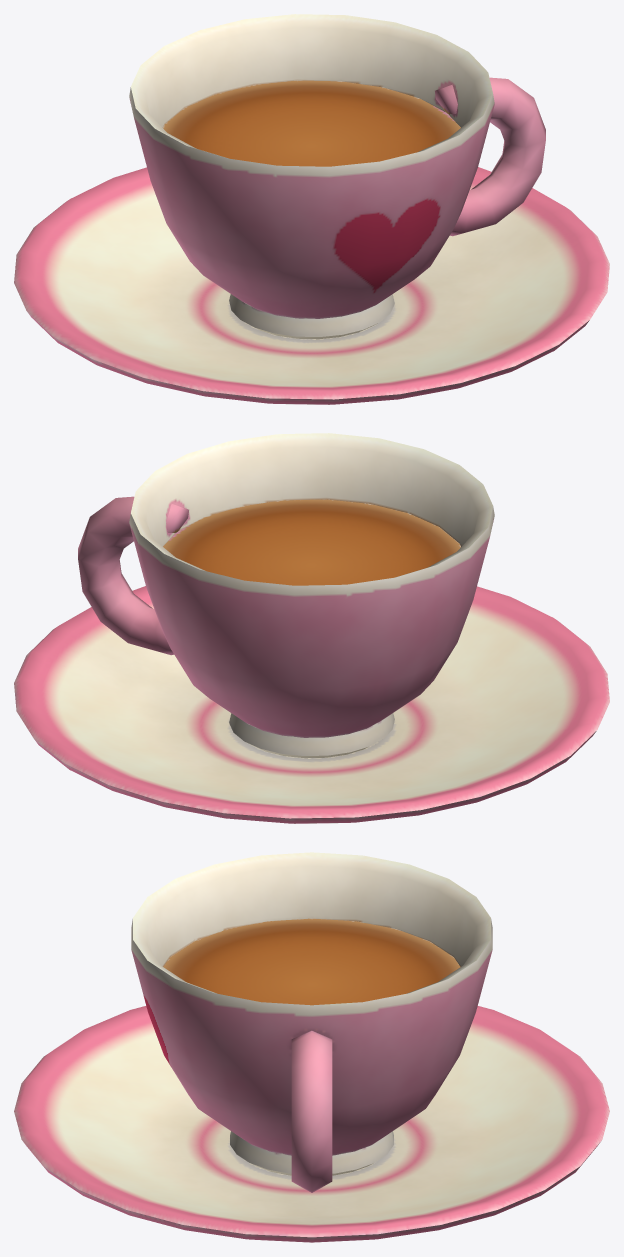
File: tea_cup.glb
The picture shows the model from 3 angles, top to bottom: view 1: azimuth 30°, elevation 25°; view 2: azimuth 150°, elevation 25°; view 3: azimuth 270°, elevation 25°; orthographic projection.
Visible parts, largest first — view 1: tea_cup; view 2: tea_cup; view 3: tea_cup.
Part boxes in pixels (x1,y1,x2,y2): tea_cup: [14, 14, 609, 404]; tea_cup: [14, 433, 609, 823]; tea_cup: [14, 852, 609, 1242].
Bounding box in the file's own units: 0.1476 × 0.0677 × 0.1476.
Materials: 1 (1 with a texture image).
